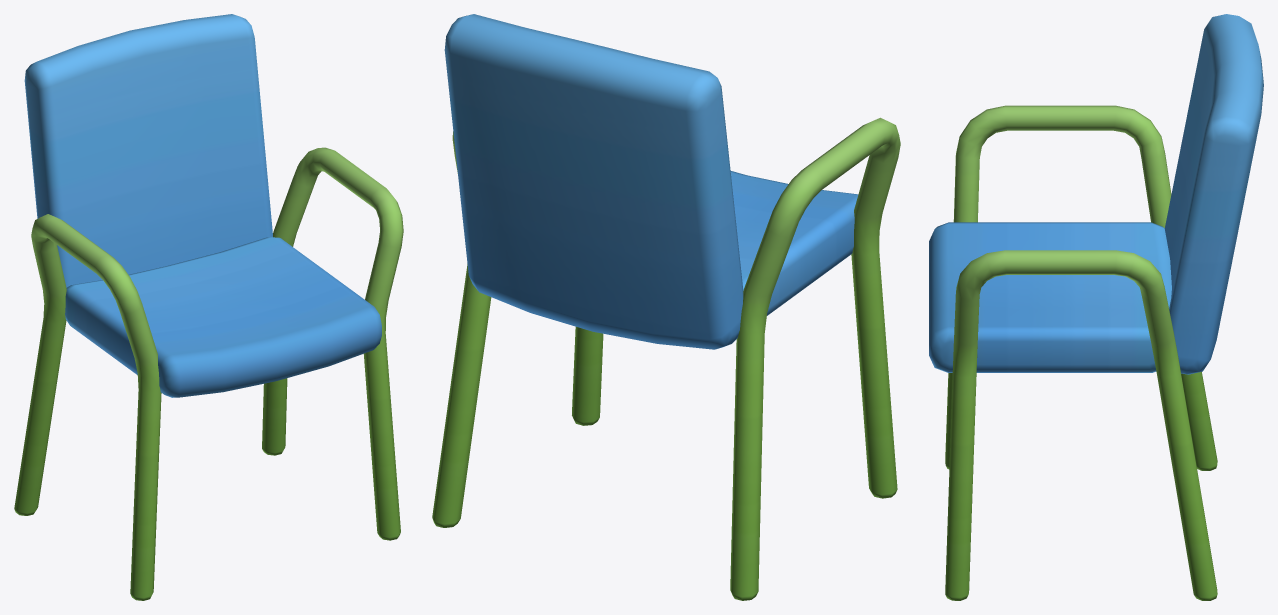
Rendered from Armchair_26.glb.
3 renders of one model, left to right at view 1: azimuth 30°, elevation 25°; view 2: azimuth 150°, elevation 25°; view 3: azimuth 270°, elevation 25°, orthographic. The views are drawn at different scales.
Parts seen in each view (by area): view 1: Armchair_26; view 2: Armchair_26; view 3: Armchair_26.
Boxes of the visible parts, x1=… form: Armchair_26: x1=14, y1=14, x2=403, y2=600; Armchair_26: x1=432, y1=14, x2=900, y2=600; Armchair_26: x1=929, y1=14, x2=1263, y2=600.
Size of the model in its own units: 0.5747 by 0.8173 by 0.5251.
1 material, 1 textured.
